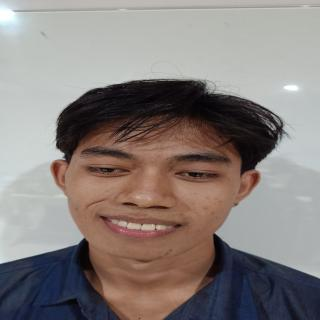Senang: (58, 107, 252, 264)
